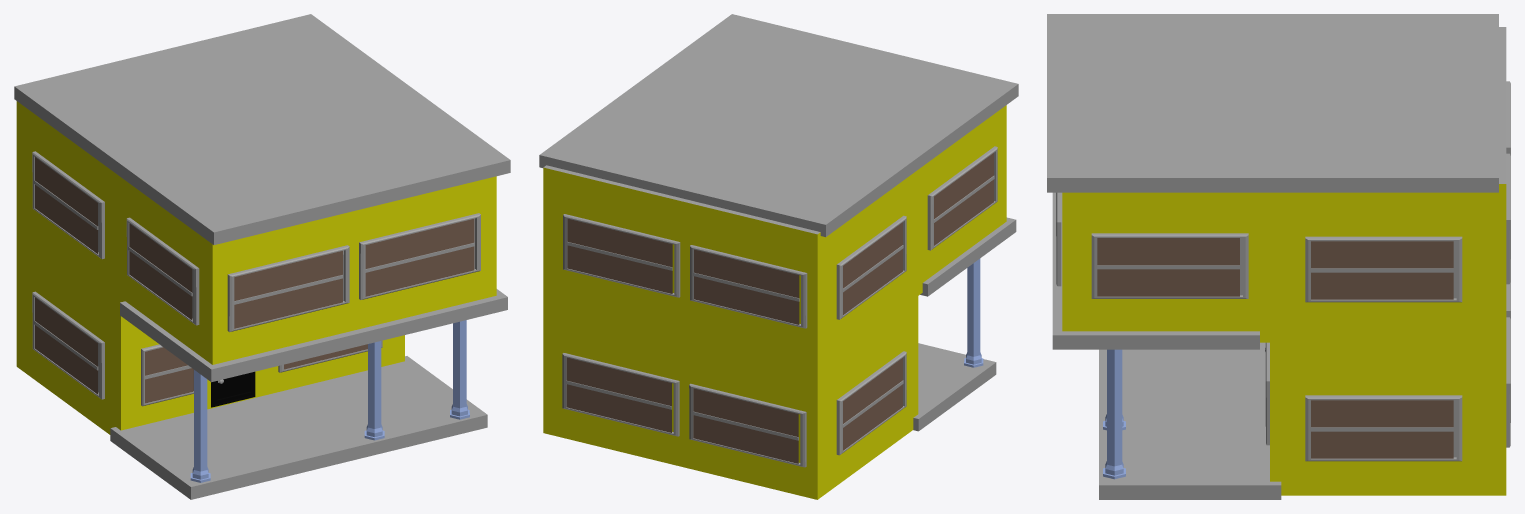
Rendered from Building1.fbx.
3 renders of one model, left to right at view 1: azimuth 30°, elevation 25°; view 2: azimuth 150°, elevation 25°; view 3: azimuth 270°, elevation 25°, orthographic. The views are drawn at different scales.
Visible parts, largest first — view 1: pCylinder89, polySurface682, polySurface683, polySurface681, polySurface680, polySurface679, polySurface677, pSphere37, polySurface678; view 2: pCylinder89, polySurface688, polySurface687, polySurface689, polySurface690, polySurface681, polySurface679, polySurface680; view 3: pCylinder89, polySurface686, polySurface685, polySurface684, polySurface687, polySurface689, polySurface683.
Part boxes in pixels (x1,y1,x2,y2): pCylinder89: [14, 14, 510, 499]; polySurface682: [227, 245, 349, 332]; polySurface683: [359, 213, 480, 299]; polySurface681: [126, 217, 199, 325]; polySurface680: [32, 151, 104, 259]; polySurface679: [32, 291, 104, 399]; polySurface677: [141, 344, 193, 406]; pSphere37: [211, 371, 255, 407]; polySurface678: [278, 340, 382, 372]; pCylinder89: [539, 14, 1018, 499]; polySurface688: [690, 245, 807, 328]; polySurface687: [563, 214, 680, 297]; polySurface689: [562, 353, 679, 436]; polySurface690: [689, 383, 806, 467]; polySurface681: [927, 146, 997, 250]; polySurface679: [836, 351, 906, 455]; polySurface680: [836, 215, 906, 319]; pCylinder89: [1047, 14, 1506, 499]; polySurface686: [1305, 395, 1462, 461]; polySurface685: [1305, 236, 1462, 302]; polySurface684: [1091, 233, 1248, 298]; polySurface687: [1506, 153, 1510, 284]; polySurface689: [1506, 317, 1510, 447]; polySurface683: [1056, 192, 1061, 286].
Size of the model in its own units: 203 by 186 by 243.
